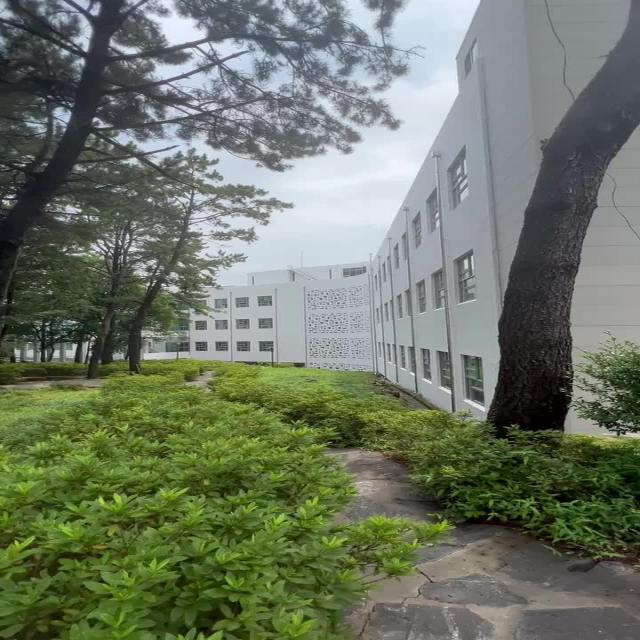building: (226, 256, 500, 369)
